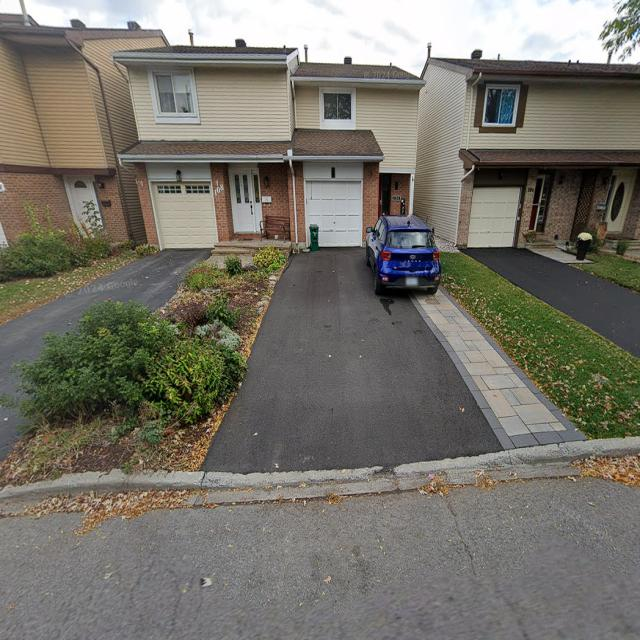Door: (225, 166, 265, 236)
curb: (3, 435, 639, 517)
obstacle: (17, 270, 271, 466), (361, 213, 445, 307)
walkways: (195, 236, 589, 474)
